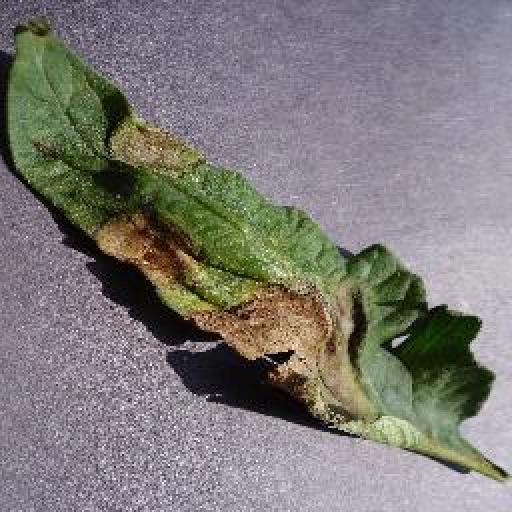disease_tomato: (10, 13, 504, 487)
